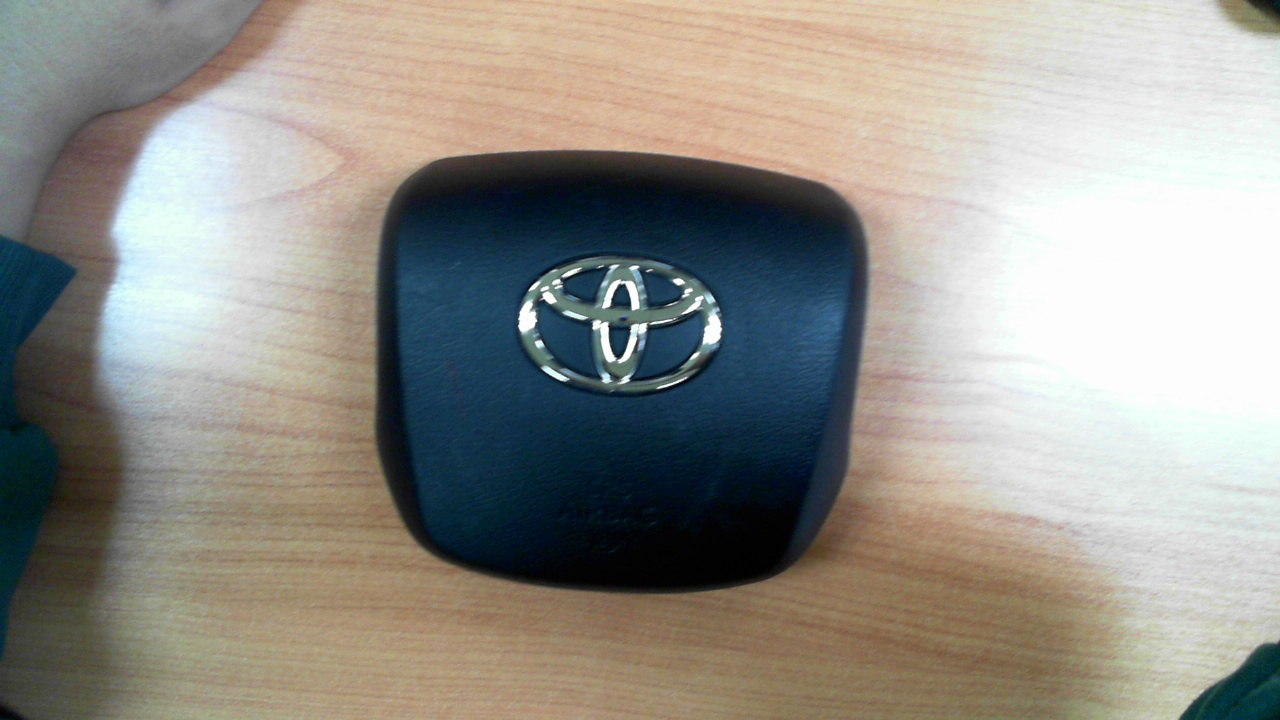Airbag: (372, 148, 870, 596)
Toyota: (518, 255, 723, 394)
